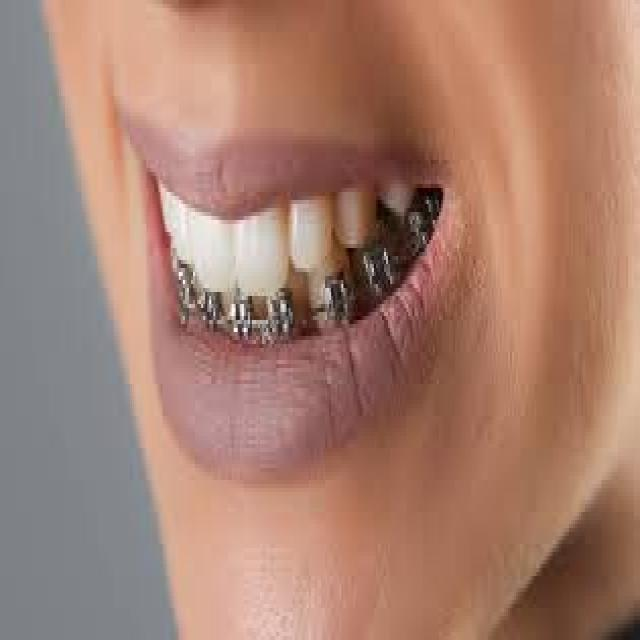tooth: (233, 220, 284, 292), (191, 220, 228, 288), (301, 196, 327, 260), (339, 192, 370, 236), (173, 204, 185, 260), (158, 192, 175, 224)
